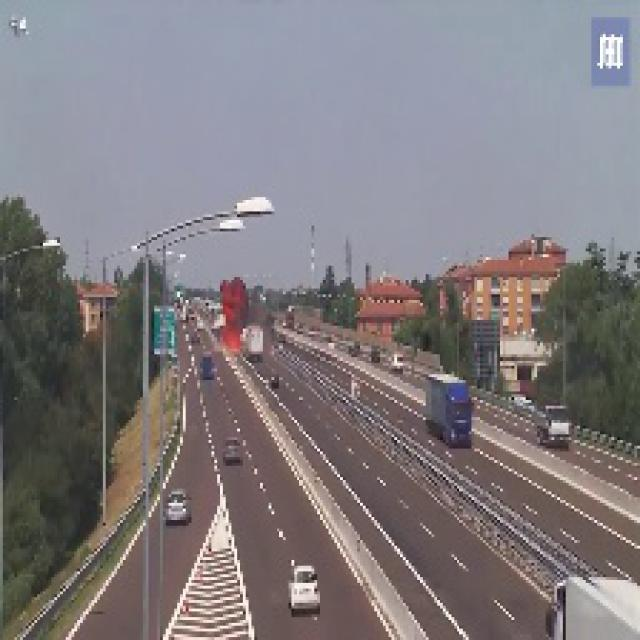fire: (214, 274, 252, 363)
